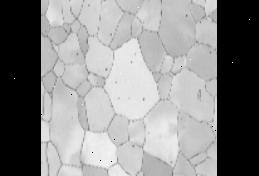good_void: (131, 143, 137, 148), (129, 58, 135, 63), (143, 96, 147, 102), (115, 79, 120, 83), (116, 96, 122, 99), (104, 66, 108, 70), (77, 51, 81, 55), (185, 13, 190, 16), (88, 3, 92, 6), (199, 20, 203, 23), (148, 130, 151, 134), (133, 52, 138, 54), (170, 160, 173, 163), (111, 32, 114, 35)
